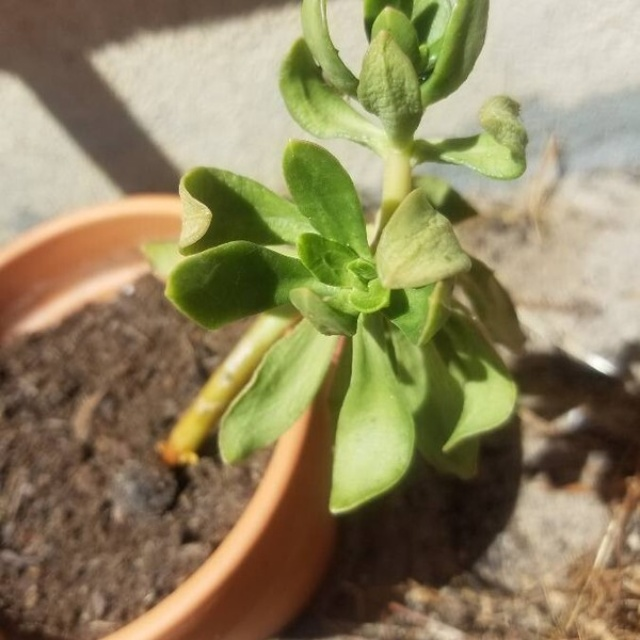obstacle: (15, 30, 505, 621)
